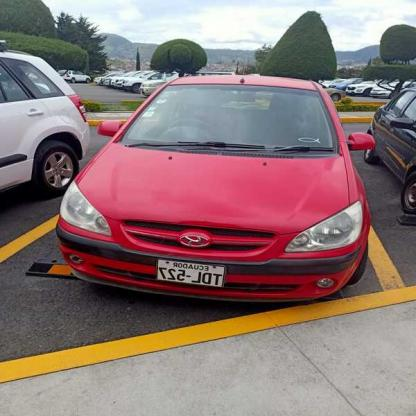Placa: (154, 258, 233, 290)
